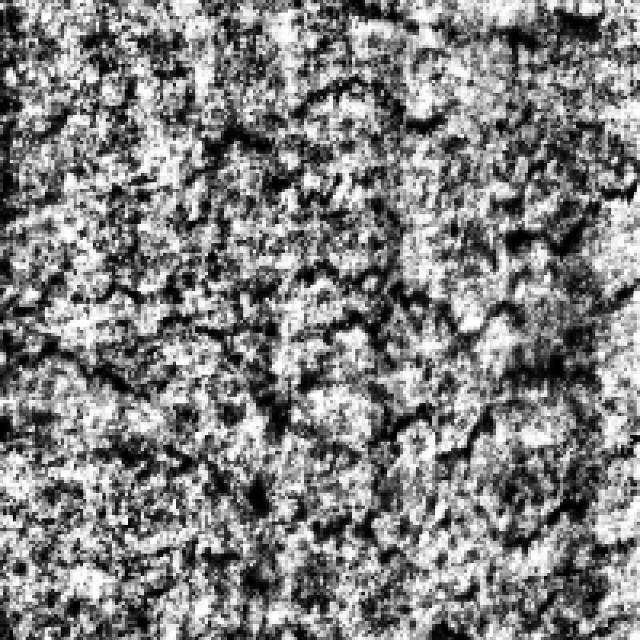Pitted_Surface: (0, 256, 586, 509)
